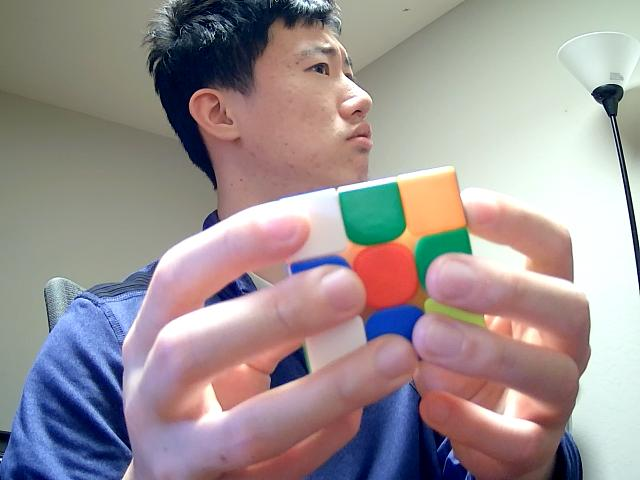Rubiks-Cube: (273, 159, 498, 397)
